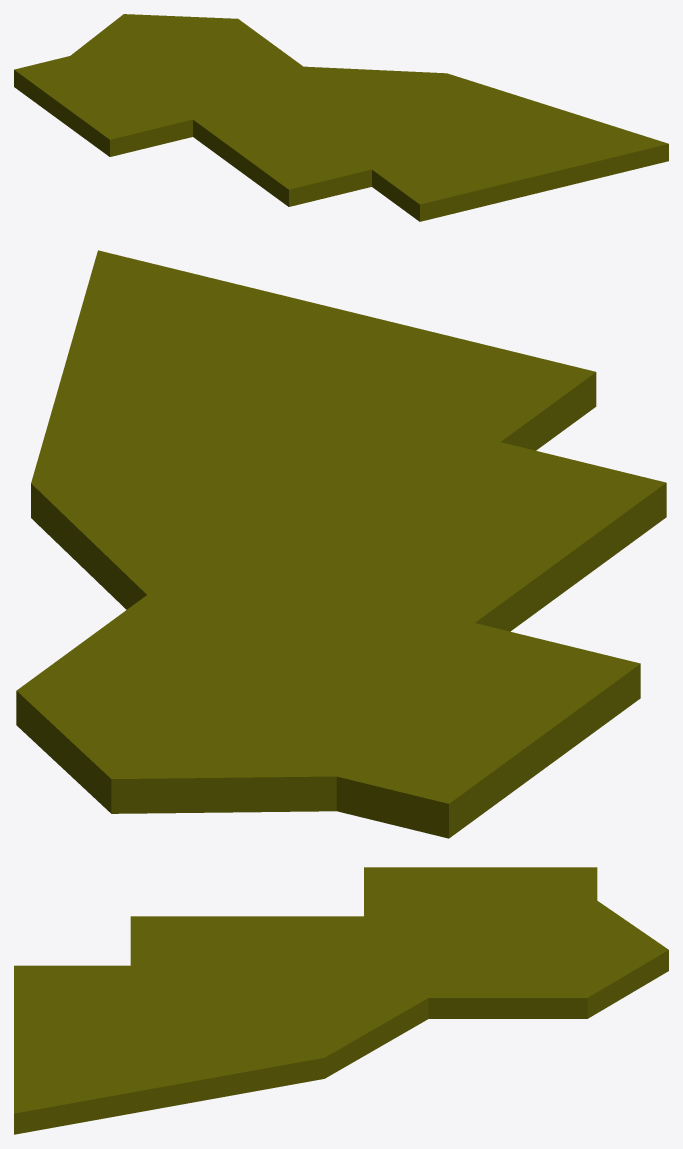
The model's file is x_0_boloto_18_1_rmstrd.fbx.
3 renders of one model, top to bottom at view 1: azimuth 30°, elevation 25°; view 2: azimuth 150°, elevation 25°; view 3: azimuth 270°, elevation 25°, orthographic. The views are drawn at different scales.
Visible parts, largest first — view 1: x_0_boloto_18_1_rmstrd1; view 2: x_0_boloto_18_1_rmstrd1; view 3: x_0_boloto_18_1_rmstrd1.
Part boxes in pixels (x1=…): x_0_boloto_18_1_rmstrd1: x1=14, y1=14, x2=668, y2=221; x_0_boloto_18_1_rmstrd1: x1=16, y1=250, x2=666, y2=838; x_0_boloto_18_1_rmstrd1: x1=14, y1=867, x2=668, y2=1134.
Bounding box in the file's own units: 5 × 0.2 × 5.62.
